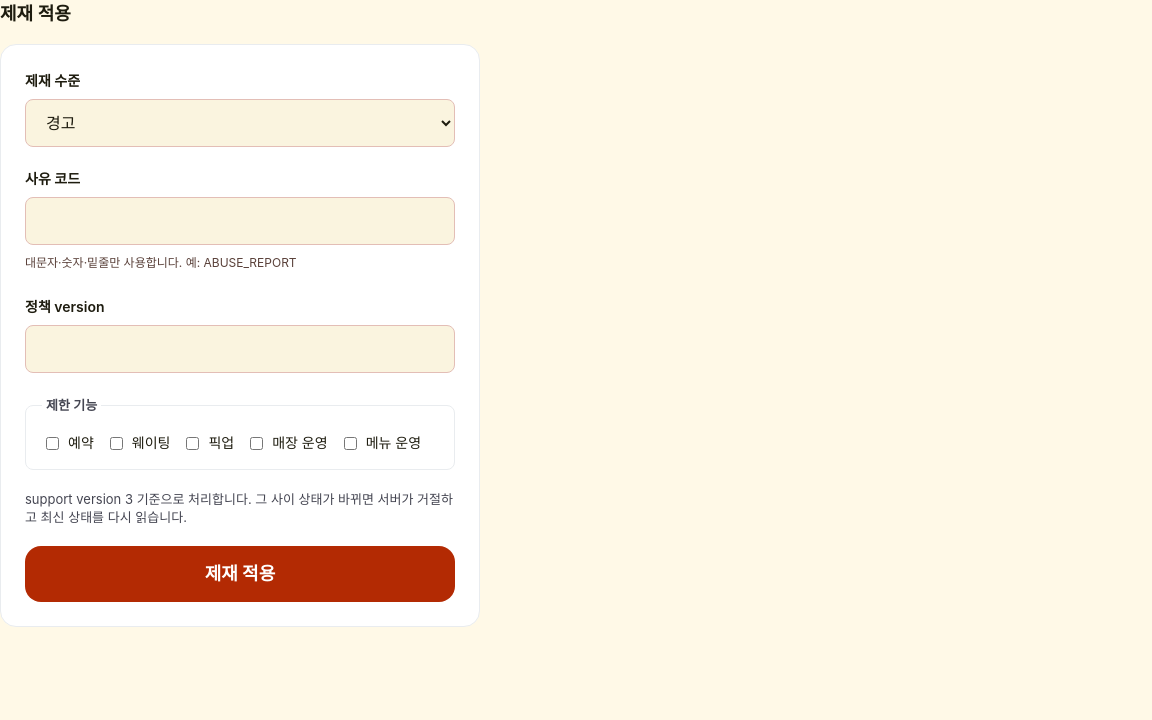
Test: 회원 제재 적용 › 영구 정지 제안 결과를 적용 완료로 표시하지 않는다
Select "영구 정지 (제안)" in the dropdown labelled "제재 수준" at (240, 123), box [25,99,455,147]
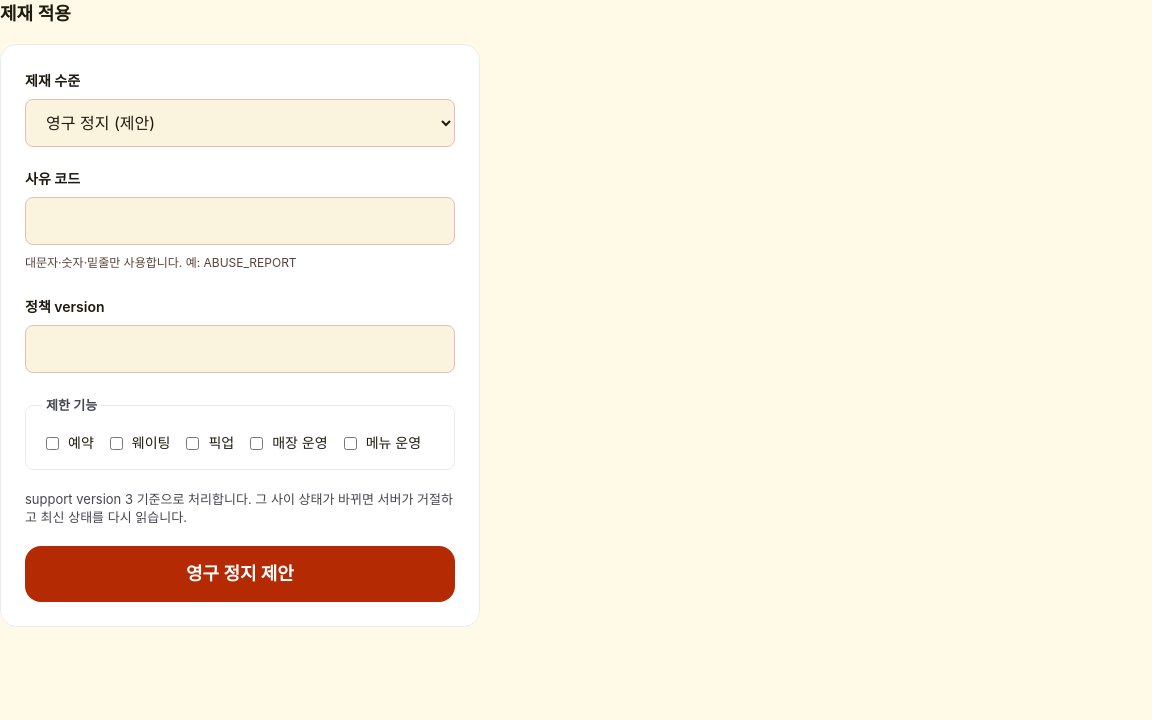
Type "ABUSE_REPORT" into the field labelled "사유 코드" at (240, 221), box [25,197,455,245]
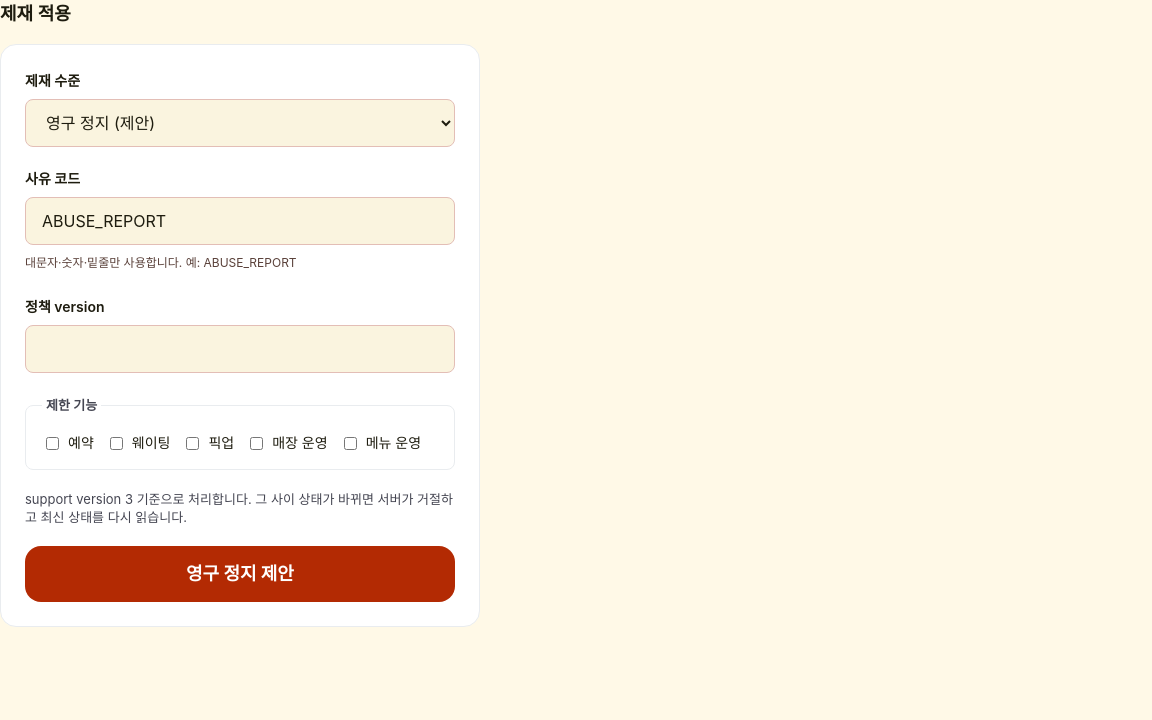
Type "SANCTION_POLICY_V1" into the field labelled "정책 version" at (240, 349), box [25,325,455,373]
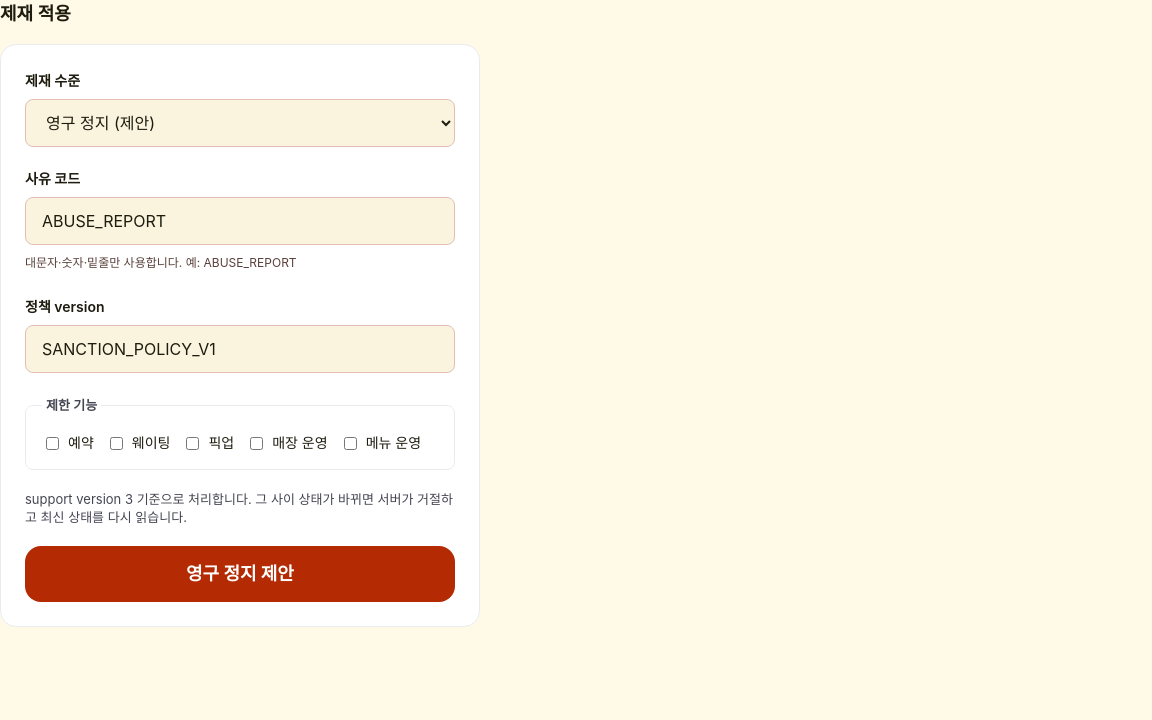
Click the button "영구 정지 제안" at (240, 574), box [25,546,455,602]
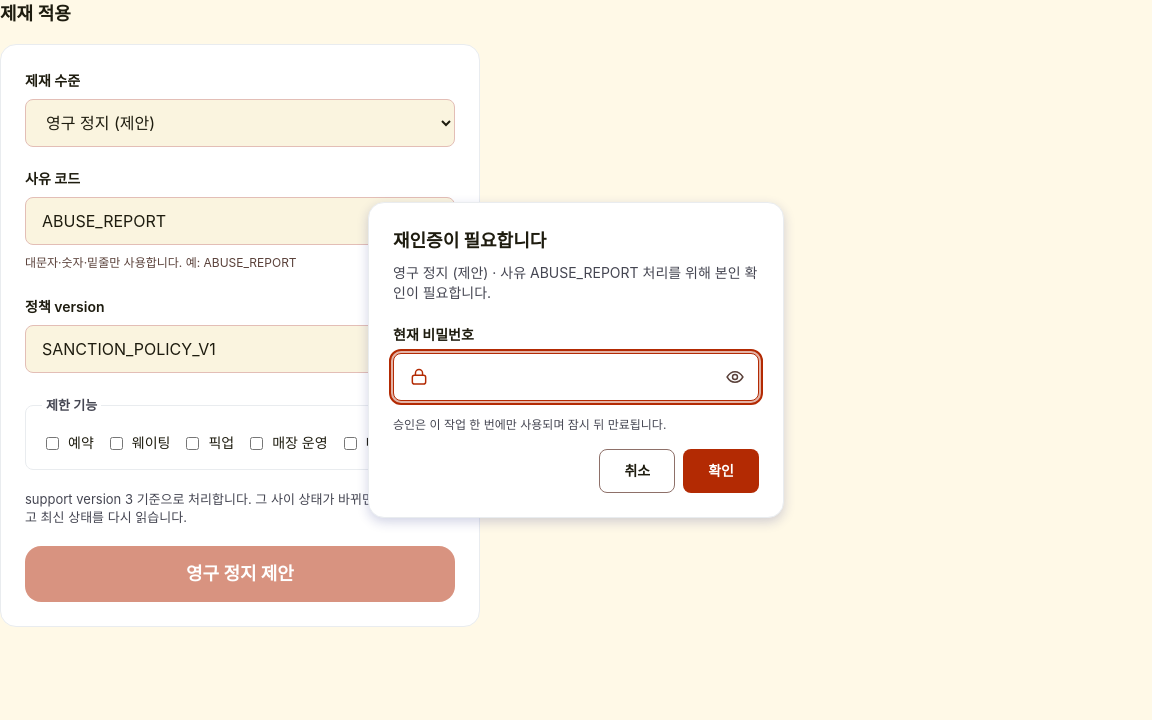
Check: the dialog "재인증이 필요합니다" is shown, box [368,202,784,518]
Type "Miriyum1!" into the password field labelled "현재 비밀번호" at (576, 377), box [393,353,759,401]
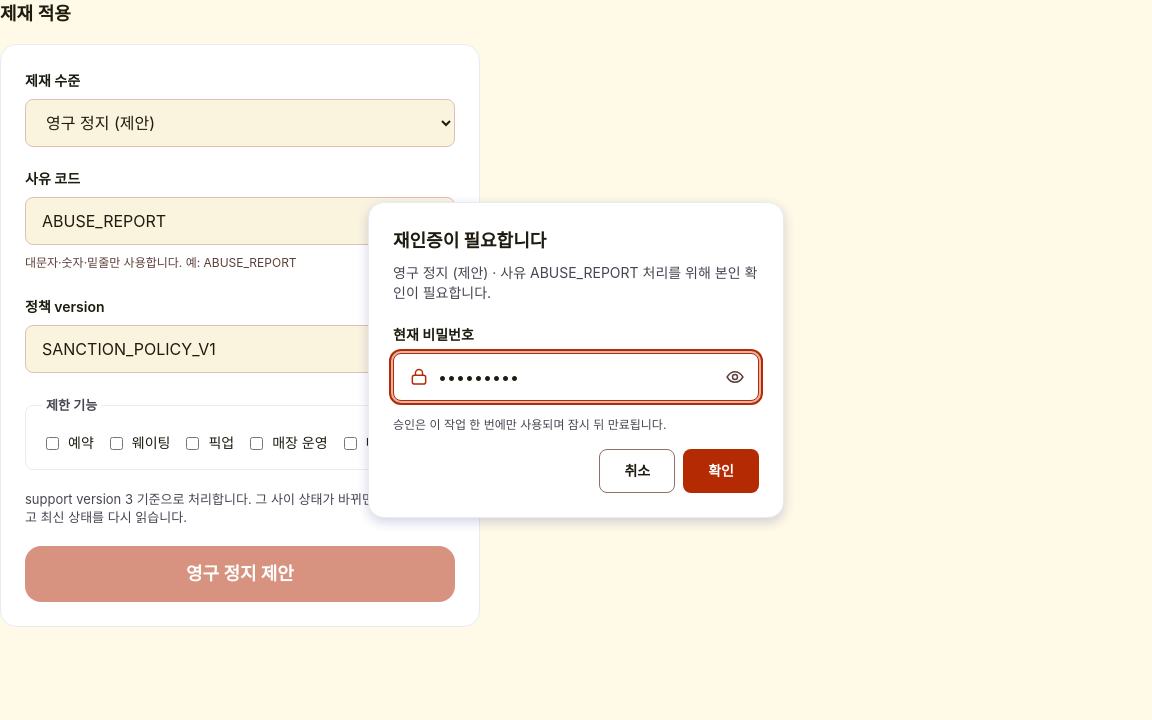
Click the button "확인" at (721, 471), box [683,449,759,493]
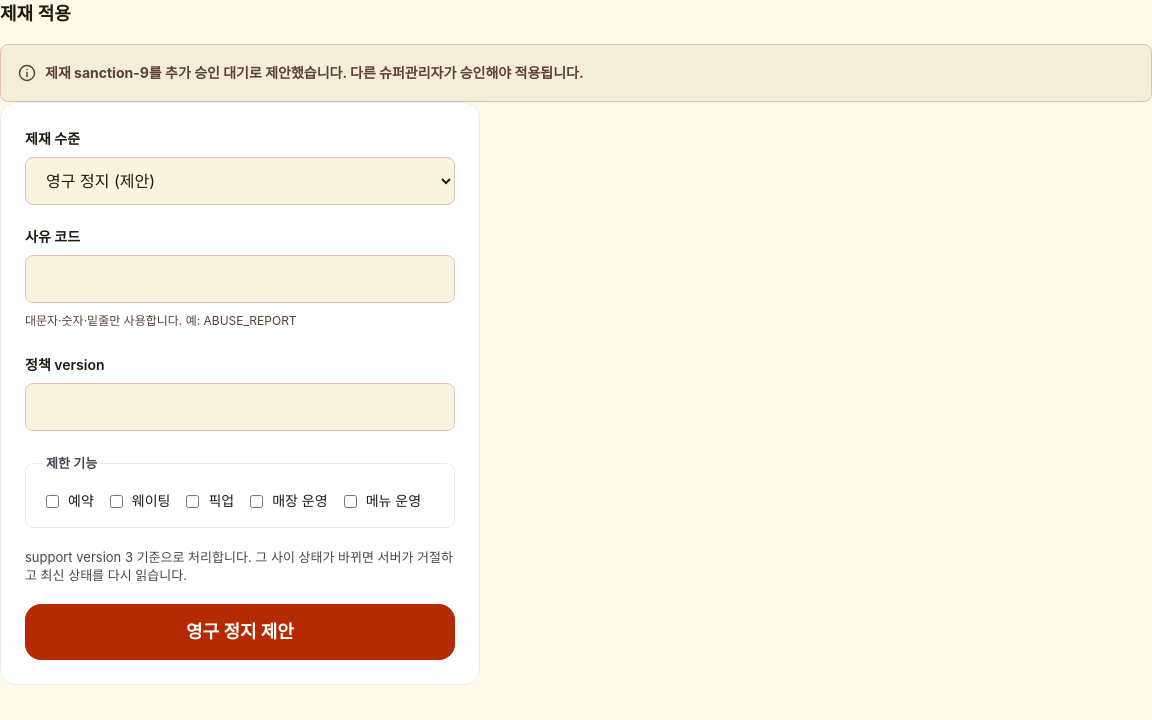
Check: the text "제재 sanction-9를 추가 승인 대기로 제안했습니다. 다른 슈퍼관리자가 승인해야 적용됩니다." is shown, box [45,64,584,81]
